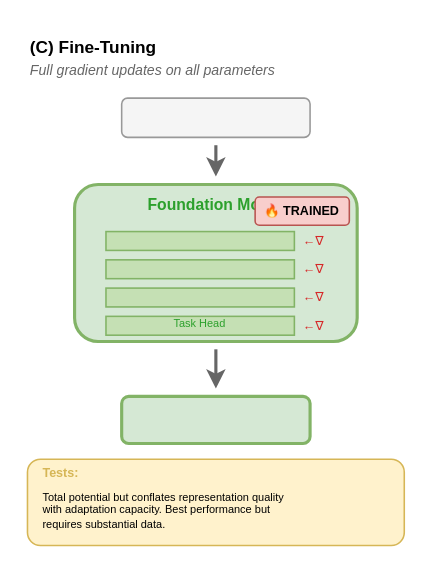
Some shapes in this 432 by 573 pixel diagram are drawn without their labels. Here are the shapes that lost their labels. From the top down, the centre of each, then its label:
the point at 215,117: Input Sequence
the point at 215,419: Task Predictions
